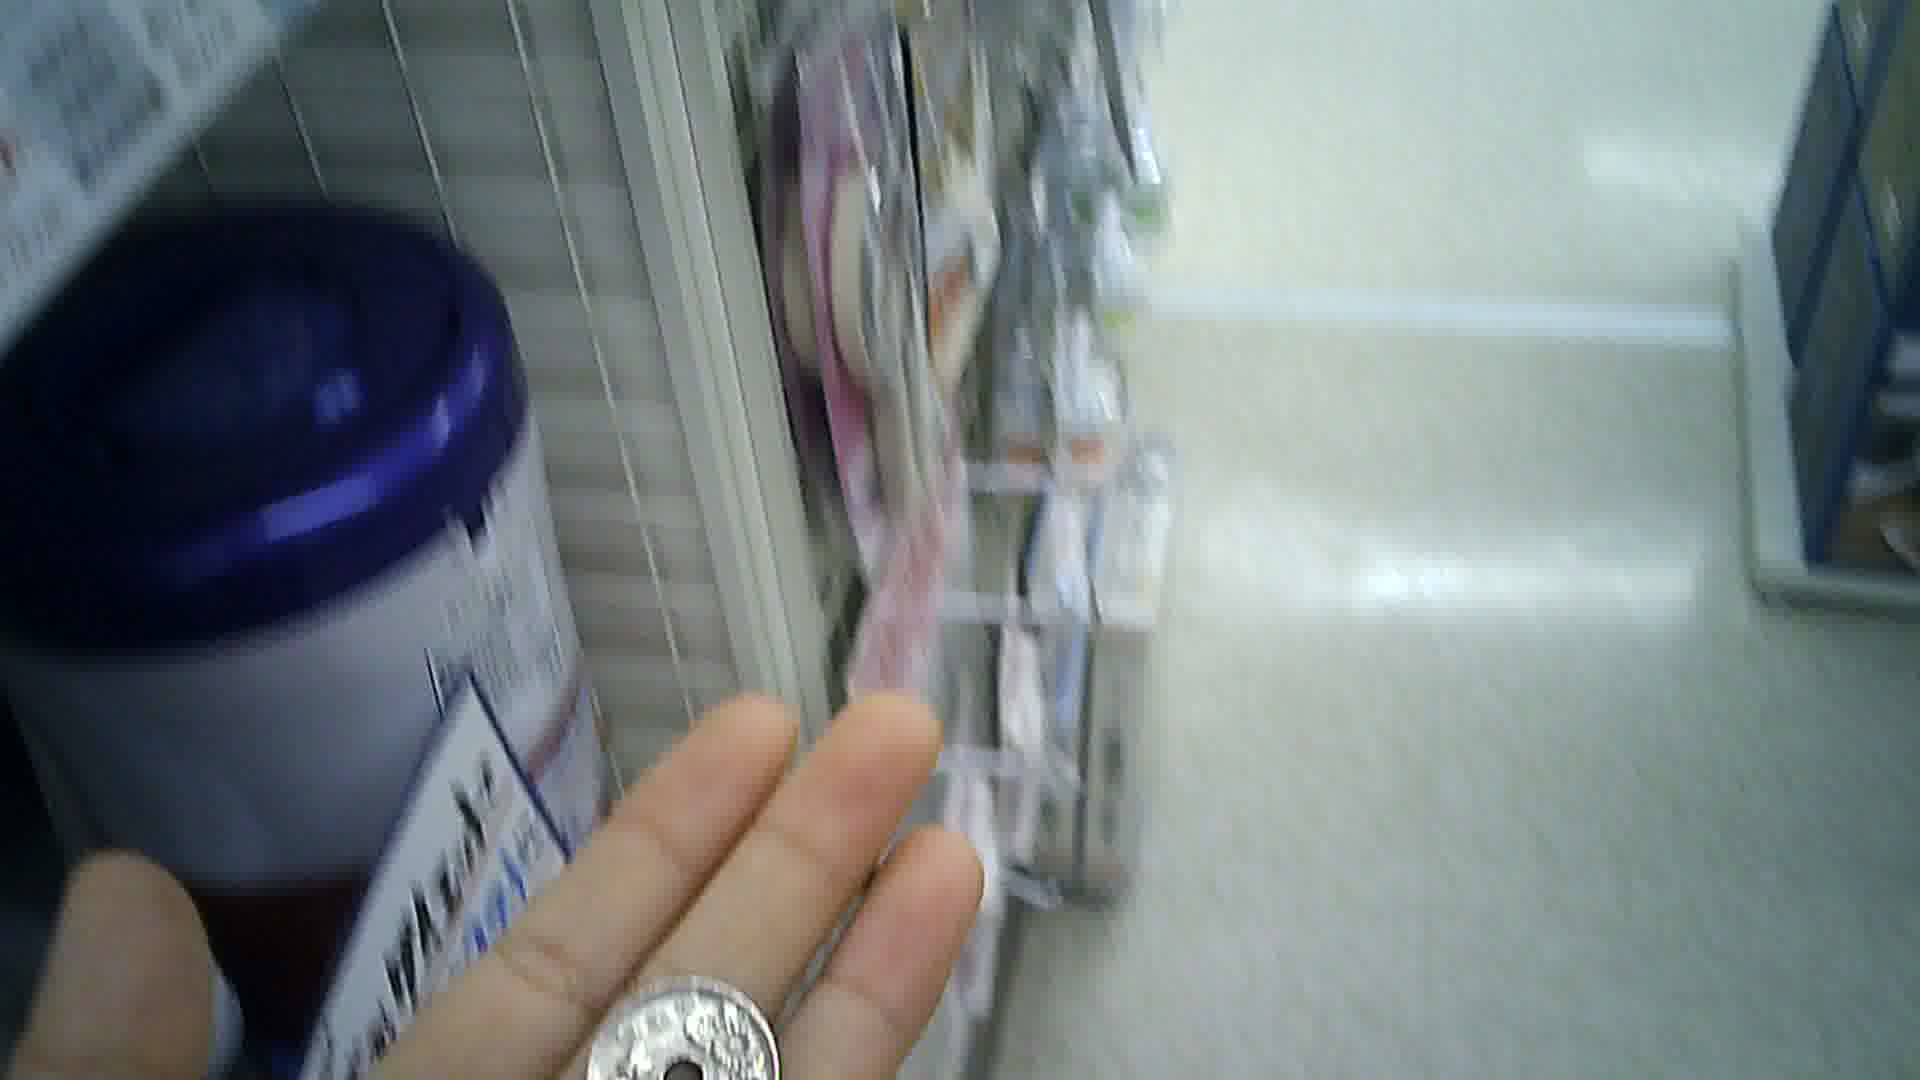50 Yen: (588, 971, 771, 1079)
